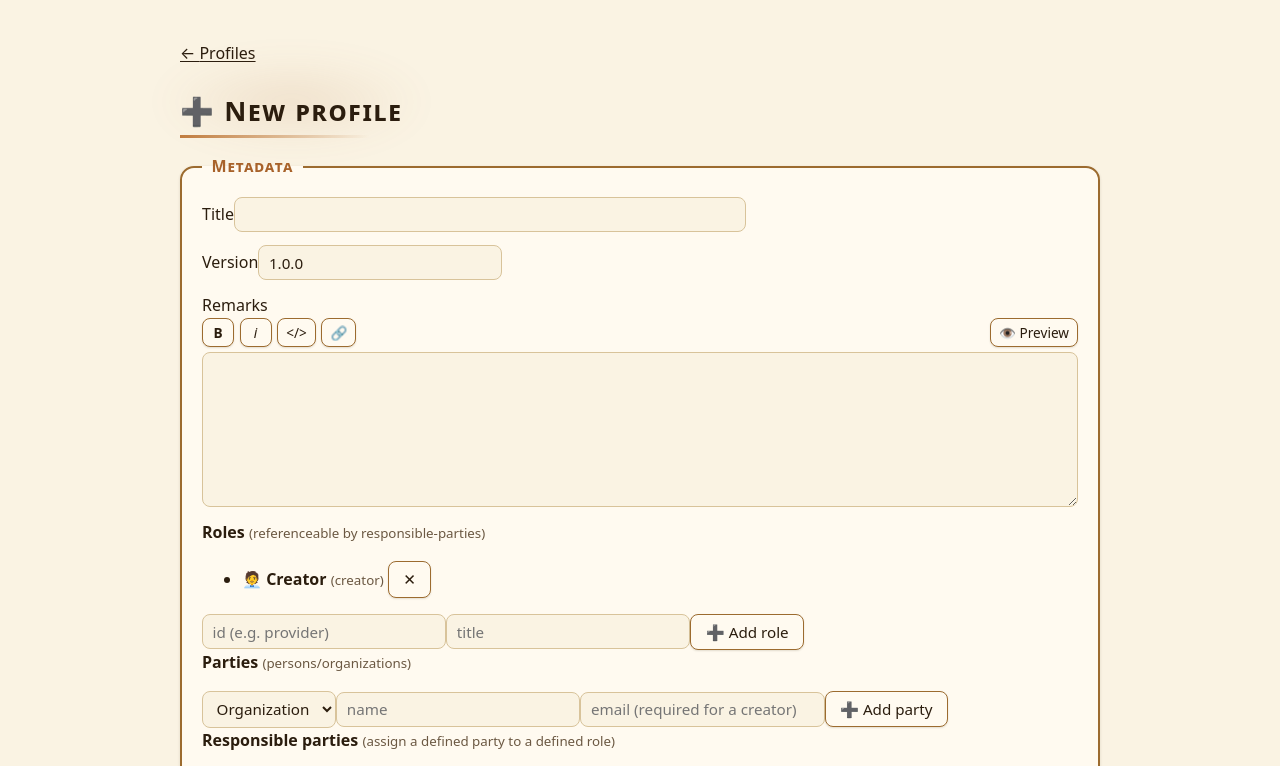
it: imports › filters the checklist by statement/title text
The width and height of the screenshot is (1280, 766).
Type "My Profile" into the field with test id "md-title".
click(490, 214); type("My Profile")  # box [234,197,746,232]
(page scrolled)
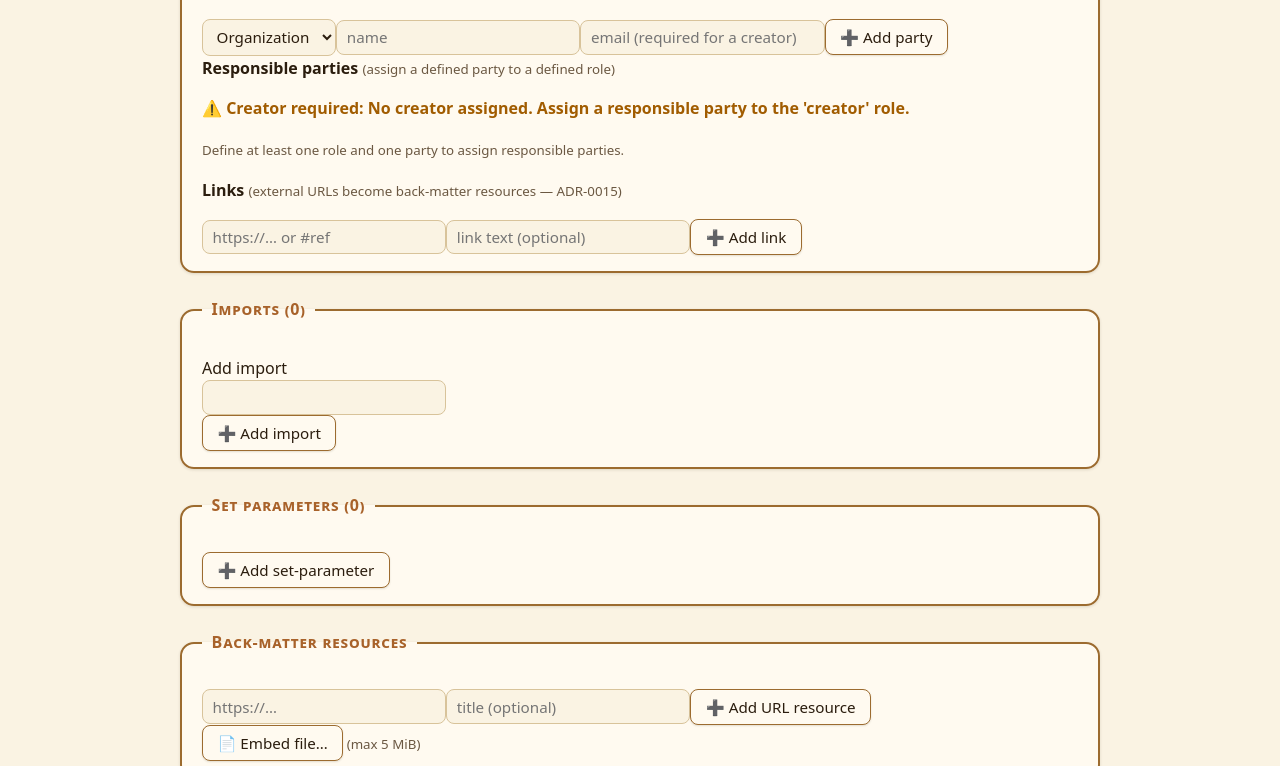
Type "Grundschutz" into the field with test id "profile-import-picker-input".
click(324, 398); type("Grundschutz")  # box [202,380,446,415]
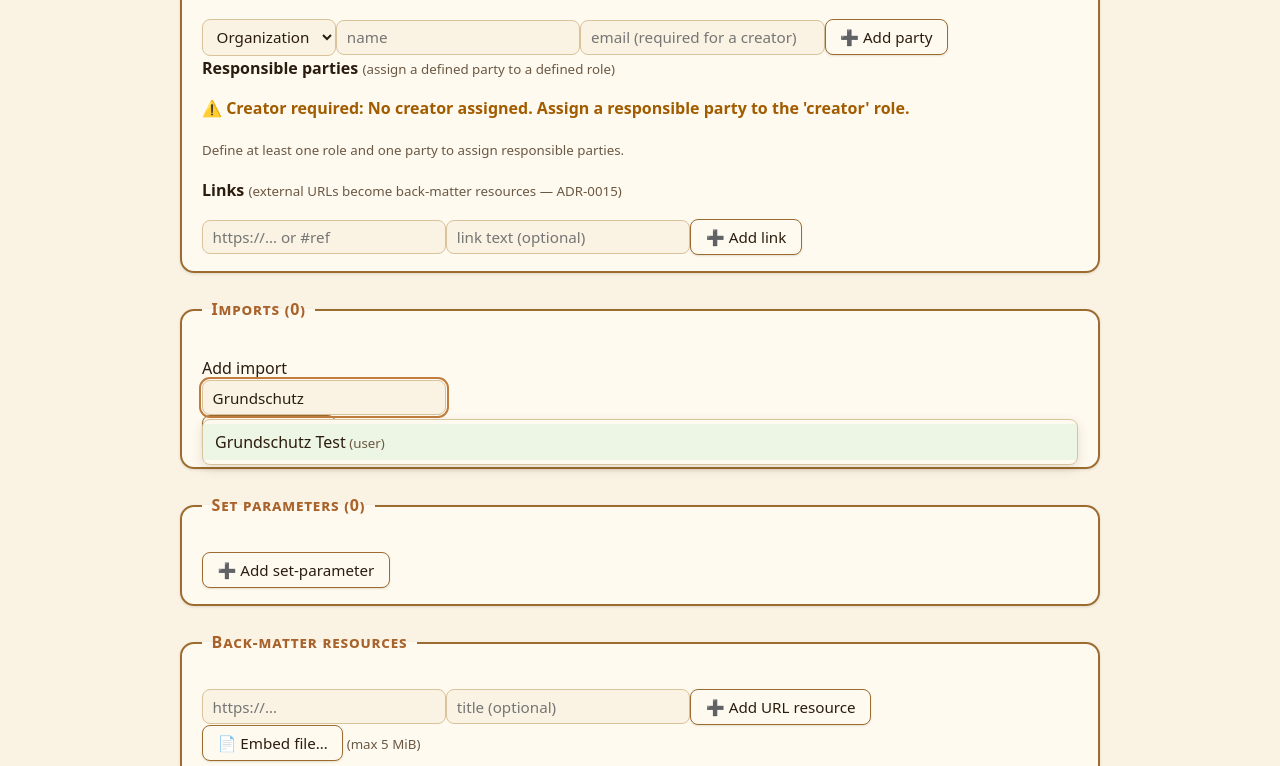
Click the list item "Grundschutz Test".
click(640, 442)  # box [203,424,1077,460]
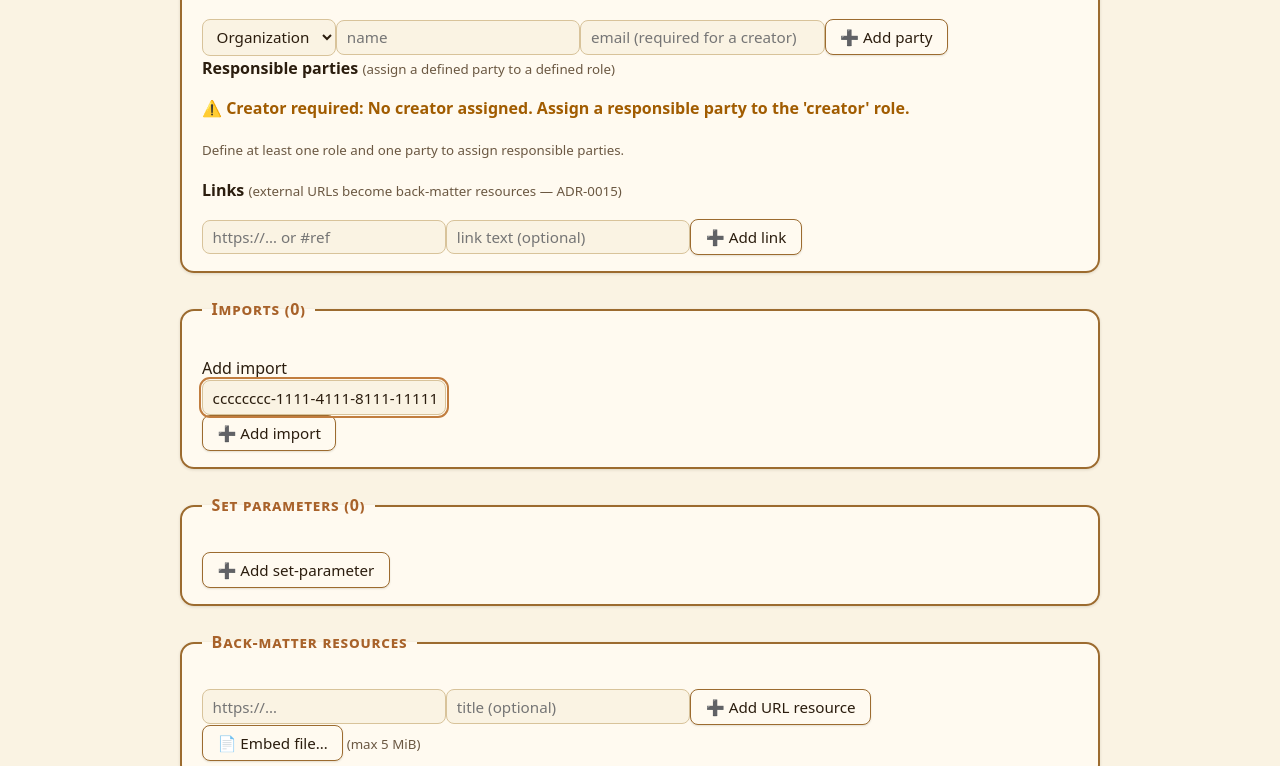
Click the button with test id "profile-import-add".
click(269, 433)  # box [202,415,336,452]
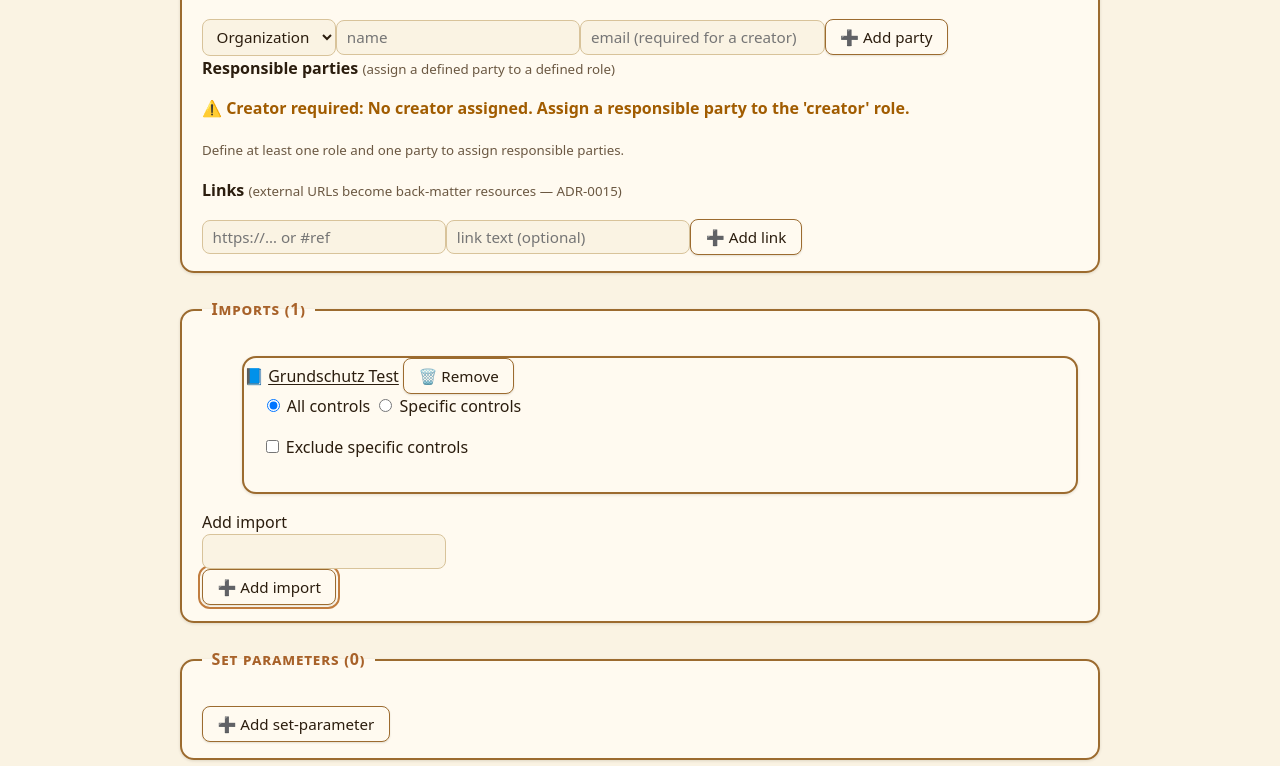
Click the radio button with test id "profile-import-mode-by-id".
click(386, 405)  # box [379,399,392,412]
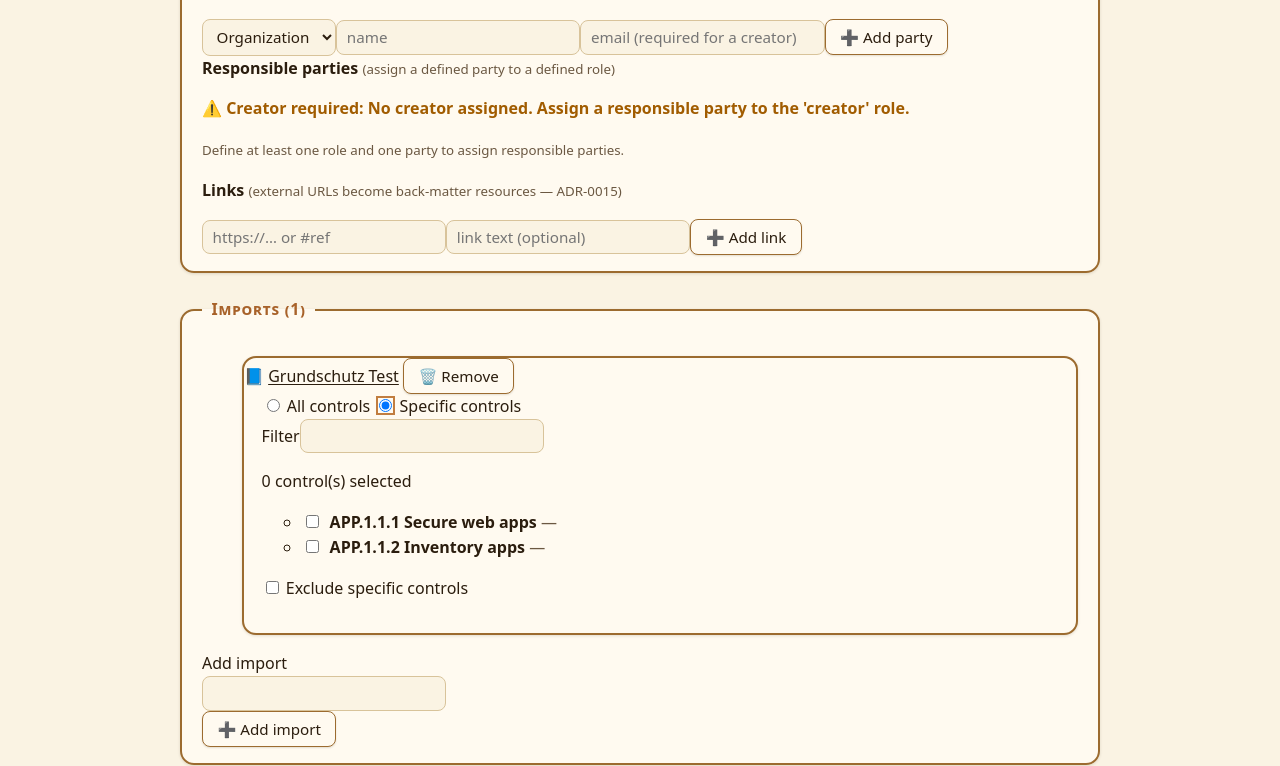
Type "Inventory" into the search field with test id "control-checklist-filter".
click(422, 436); type("Inventory")  # box [300,419,544,454]
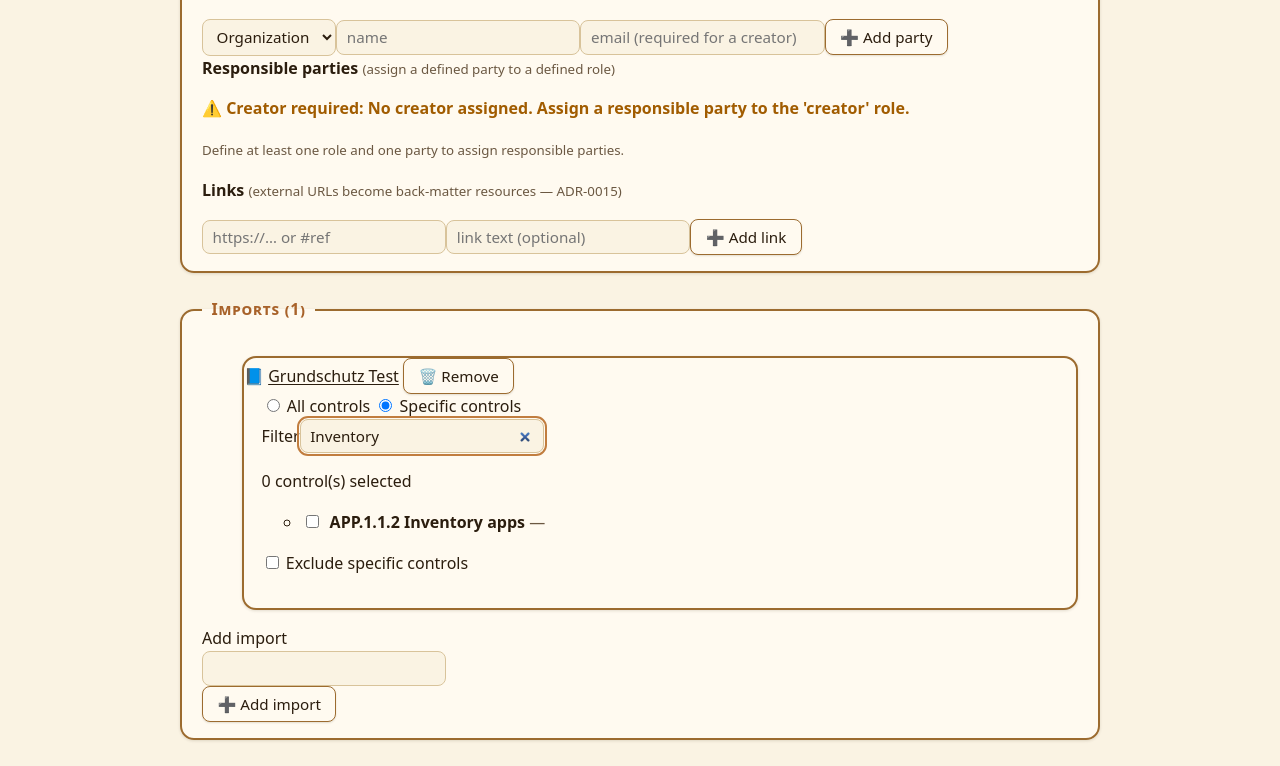
Expected: the list item with test id "control-checklist-item" shows "Inventory apps", [330,512,525,534]
Expected: the number of list items with test id "control-checklist-item" is 1, [306,512,545,534]
